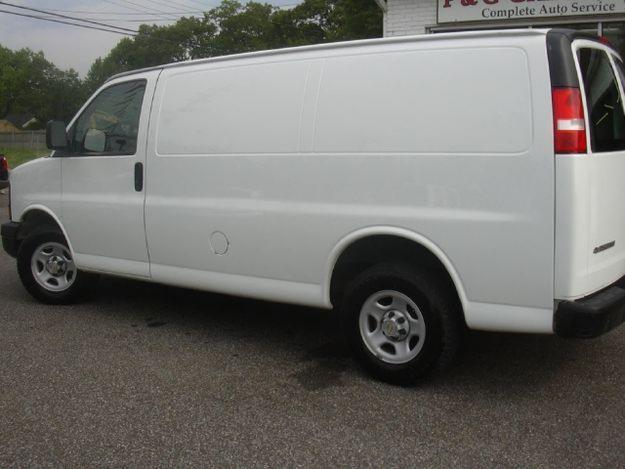car: (4, 26, 625, 393)
